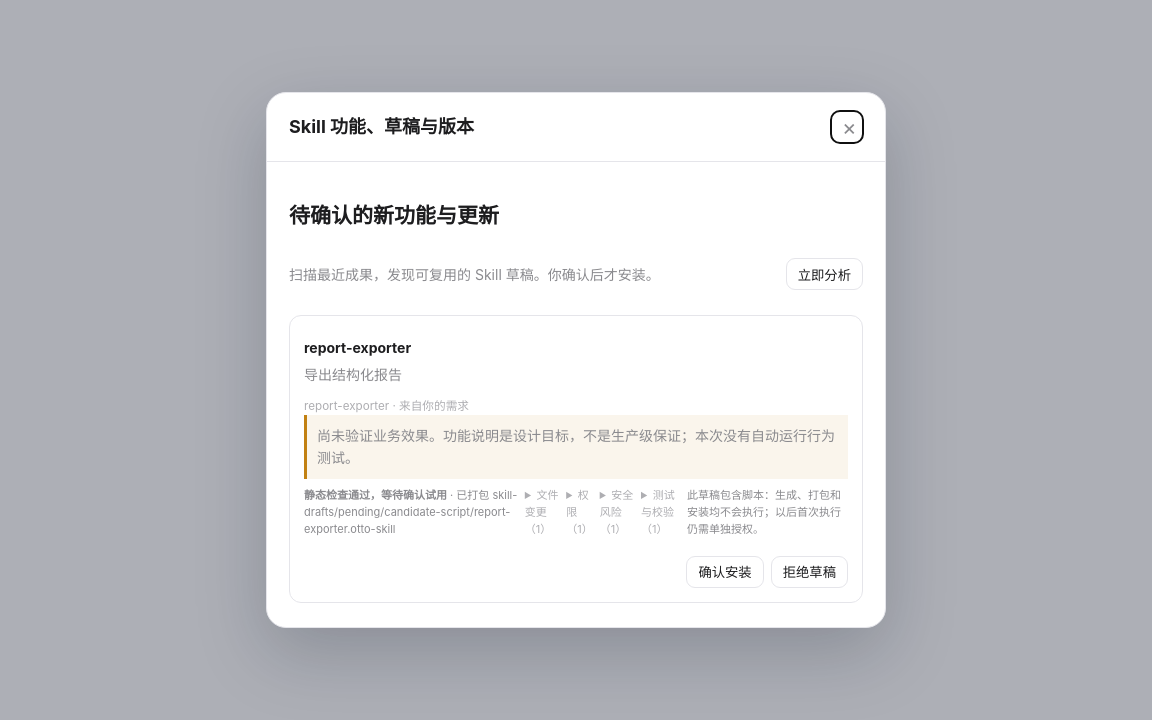
it: WorkspaceDialogs › 脚本型 Skill 安装前展示文件、权限、风险和禁执行说明
The image size is (1152, 720).
Expected: the text "静态检查通过，等待确认试用" is shown, top-left (304, 488), bottom-right (447, 502)
Expected: the text "此草稿包含脚本：生成、打包和安装均不会执行；以后首次执行仍需单独授权。" is shown, top-left (687, 487), bottom-right (848, 538)
Click the heading "文件变更（1）" at (542, 512), box top-left (525, 487), bottom-right (559, 538)
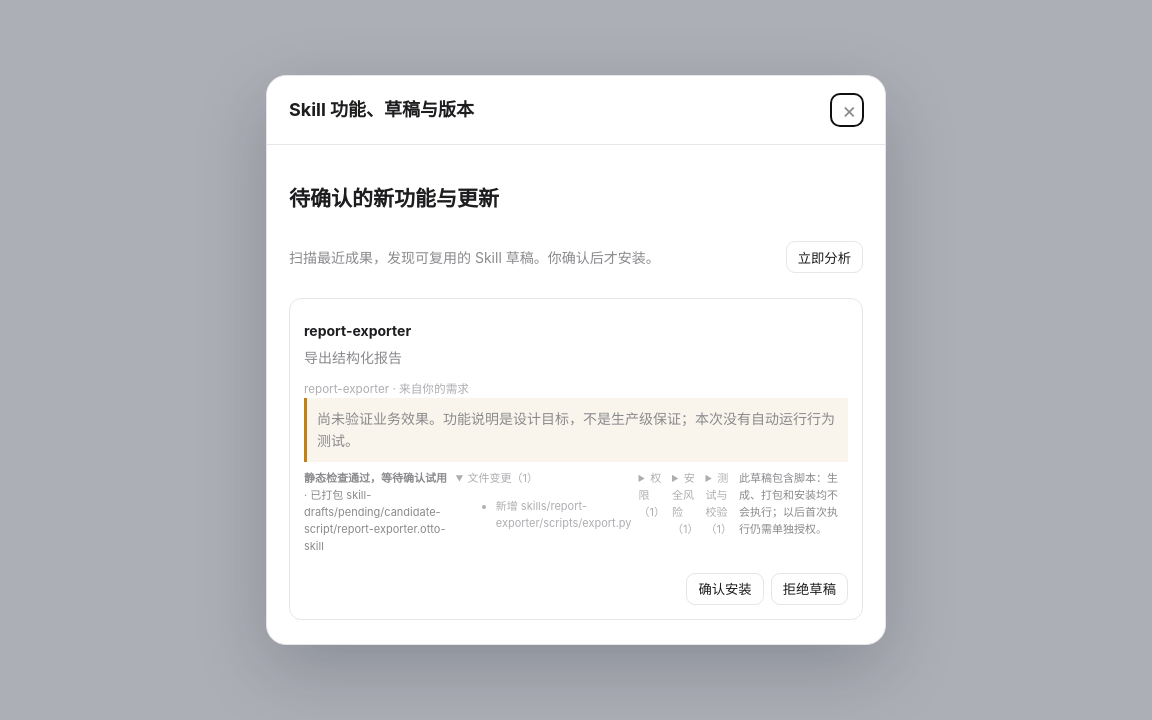
Click the heading "权限（1）" at (652, 495), box top-left (638, 470), bottom-right (665, 521)
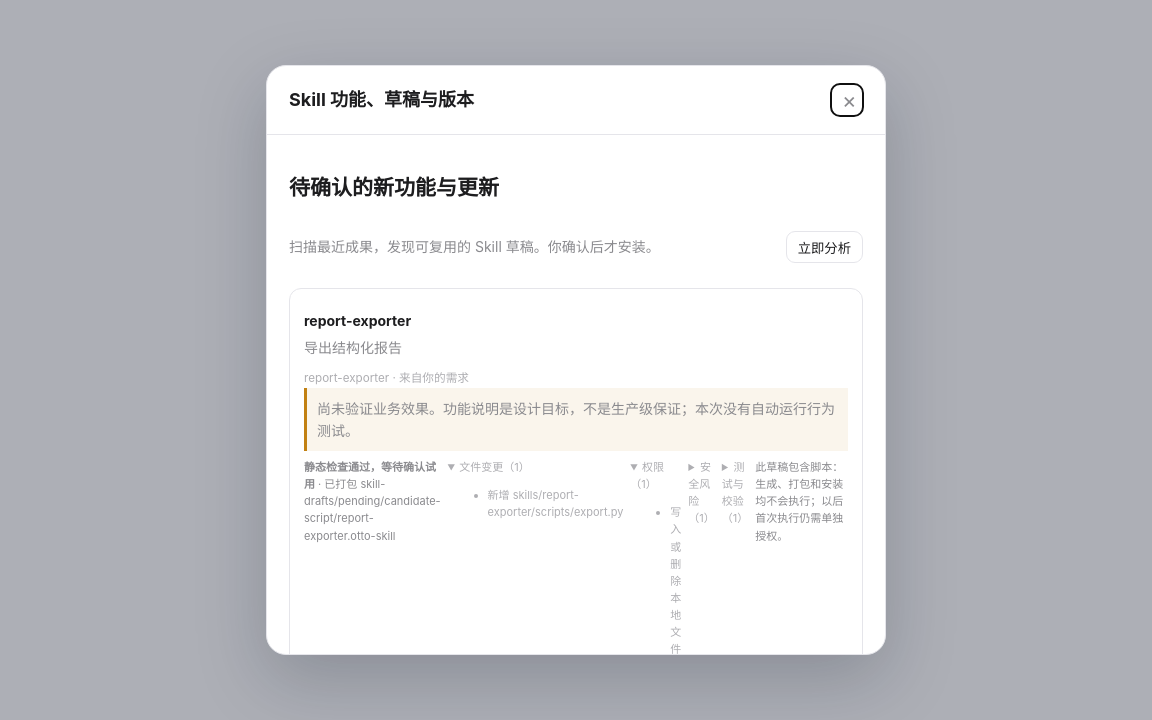
Click the heading "安全风险（1）" at (702, 493), box top-left (688, 459), bottom-right (715, 528)
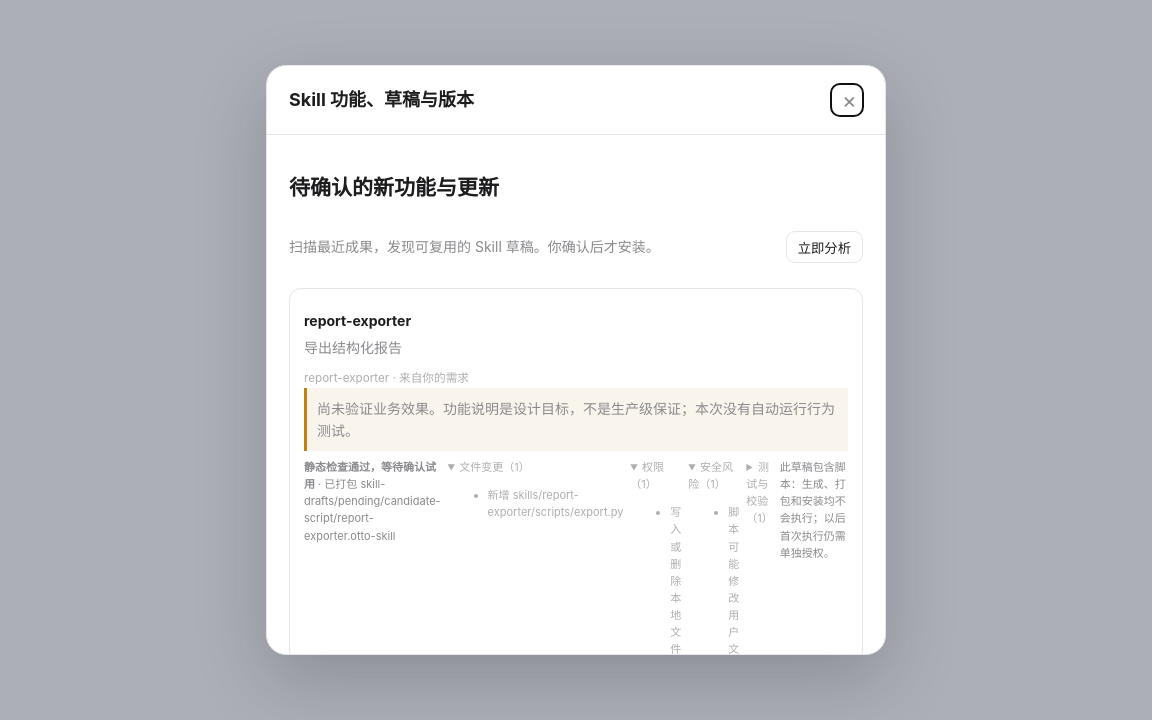
Expected: the list item "新增 skills/report-exporter/scripts/export.py" is shown, top-left (488, 487), bottom-right (623, 522)
Expected: the list item "写入或删除本地文件" is shown, top-left (670, 504), bottom-right (681, 654)
Expected: the list item "脚本可能修改用户文件" is shown, top-left (728, 504), bottom-right (739, 654)
